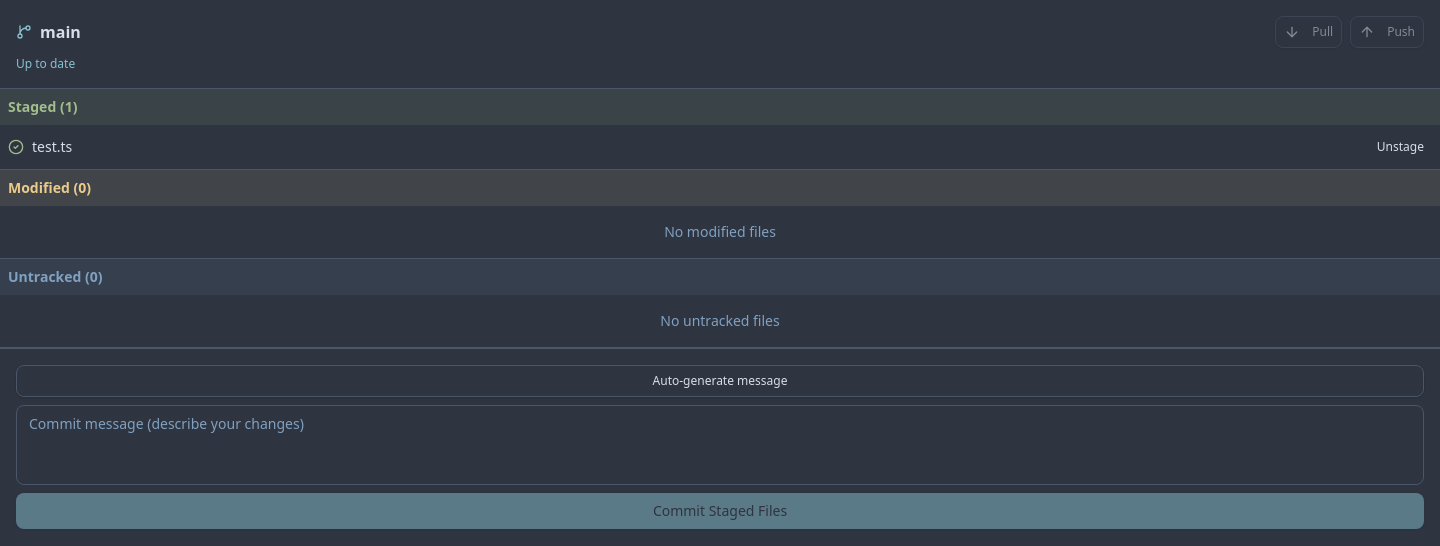
it: GitPanel › auto-generates commit message for single file
This screenshot has width=1440, height=546.
Click the button "Auto-generate message": [720, 381] box 16,365 -> 1424,397
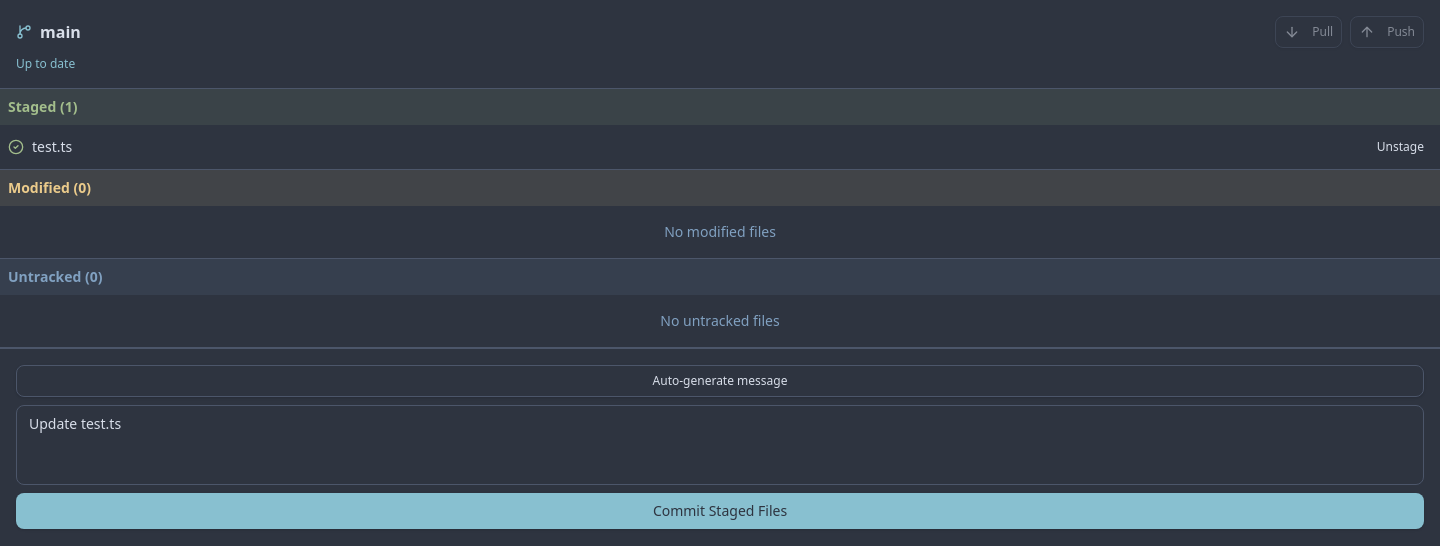
Expected: the text box with placeholder "Commit message (describe your changes)" holds "Update test.ts", 16,405 -> 1424,485
